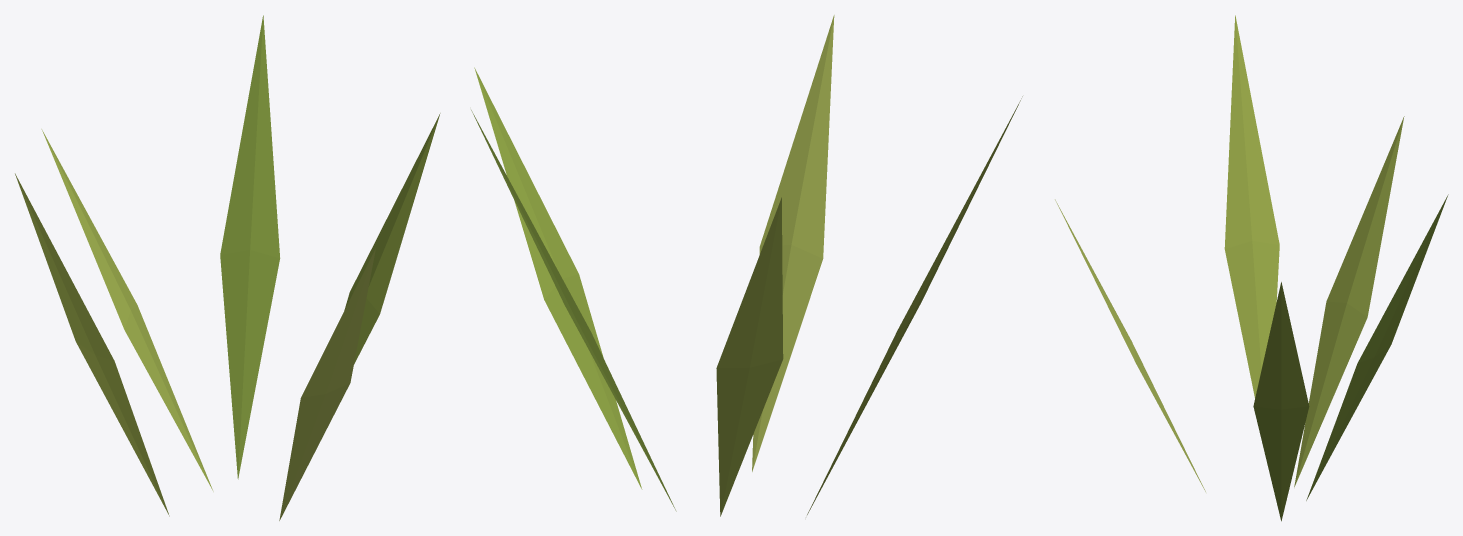
File: Grass_Small.fbx
The picture shows the model from 3 angles, left to right: view 1: azimuth 30°, elevation 25°; view 2: azimuth 150°, elevation 25°; view 3: azimuth 270°, elevation 25°; orthographic projection. The views are drawn at different scales.
Visible parts, largest first — view 1: Grass_Small; view 2: Grass_Small; view 3: Grass_Small.
Part boxes in pixels (x1=…): Grass_Small: x1=15, y1=15, x2=440, y2=520; Grass_Small: x1=471, y1=15, x2=1022, y2=516; Grass_Small: x1=1055, y1=15, x2=1448, y2=521.
Bounding box in the file's own units: 31.34 × 26.58 × 25.76.
